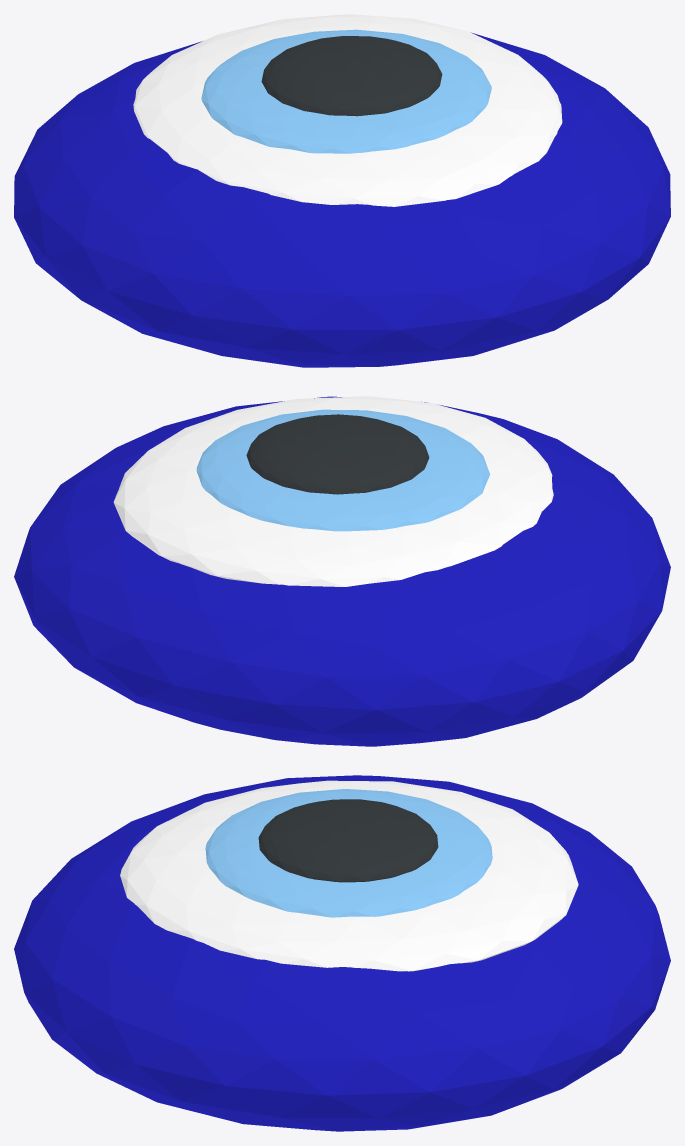
The model's file is nazar.glb.
3 views of the same model, one above another, from view 1: azimuth 30°, elevation 25°; view 2: azimuth 150°, elevation 25°; view 3: azimuth 270°, elevation 25° (orthographic).
Visible parts, largest first — view 1: Icosphere, Icosphere.001, Icosphere.002, Icosphere.003; view 2: Icosphere, Icosphere.001, Icosphere.002, Icosphere.003; view 3: Icosphere, Icosphere.001, Icosphere.002, Icosphere.003.
Part boxes in pixels (x1=…): Icosphere: x1=14, y1=32, x2=670, y2=367; Icosphere.001: x1=133, y1=14, x2=562, y2=206; Icosphere.002: x1=201, y1=29, x2=491, y2=153; Icosphere.003: x1=261, y1=36, x2=442, y2=116; Icosphere: x1=14, y1=396, x2=670, y2=746; Icosphere.001: x1=113, y1=396, x2=553, y2=586; Icosphere.002: x1=196, y1=409, x2=489, y2=531; Icosphere.003: x1=246, y1=414, x2=429, y2=494; Icosphere: x1=14, y1=775, x2=670, y2=1131; Icosphere.001: x1=120, y1=780, x2=578, y2=971; Icosphere.002: x1=205, y1=789, x2=492, y2=917; Icosphere.003: x1=258, y1=799, x2=438, y2=882.
Size of the model in its own units: 2.12 by 0.8574 by 2.08.
